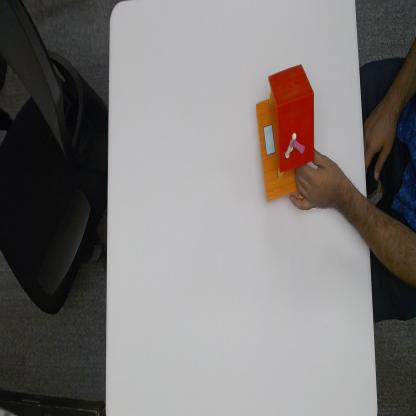Arm: (343, 171, 367, 242)
Hand: (291, 151, 343, 212)
House: (257, 60, 314, 204)
